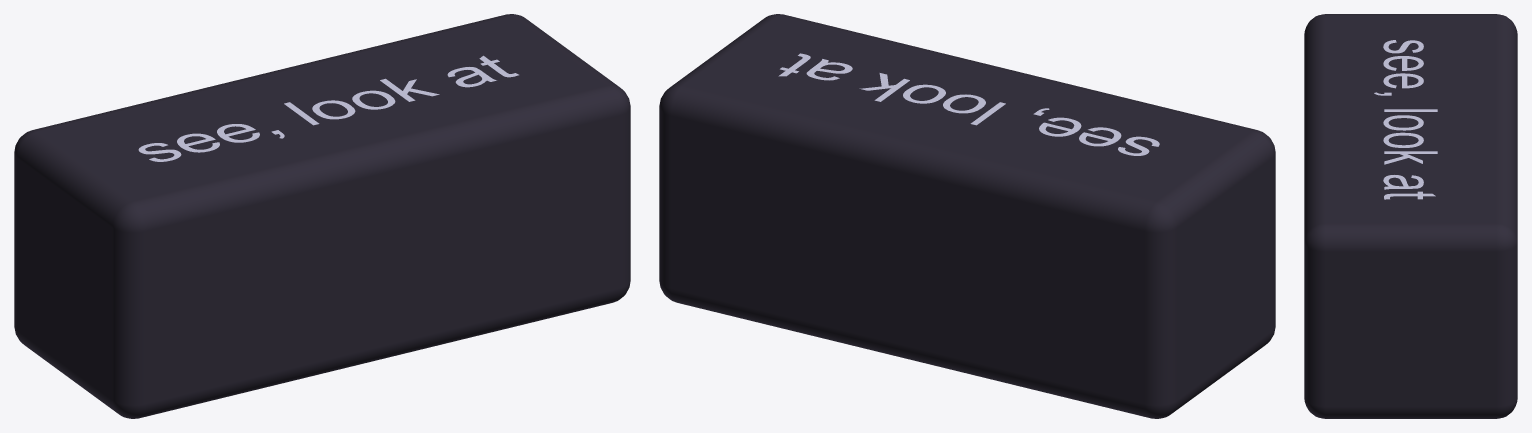
The model's file is see.glb.
3 renders of one model, left to right at view 1: azimuth 30°, elevation 25°; view 2: azimuth 150°, elevation 25°; view 3: azimuth 270°, elevation 25°, orthographic. The views are drawn at different scales.
Parts seen in each view (by area): view 1: Cut, Extrude; view 2: Cut, Extrude; view 3: Cut, Extrude.
Boxes of the visible parts, x1,y1,x2,y2 form: Cut: (14,14,630,418); Extrude: (138,55,518,161); Cut: (659,14,1275,418); Extrude: (778,53,1159,155); Cut: (1304,14,1517,418); Extrude: (1374,40,1437,199).
Bounding box in the file's own units: 5 × 2 × 2.
